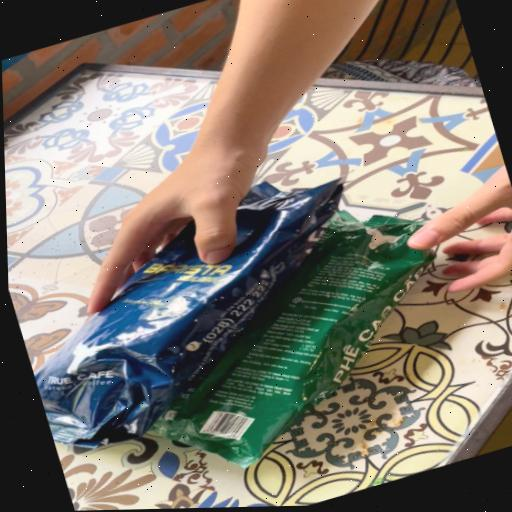cafe_hat: (33, 180, 342, 447)
cafe_xay: (152, 210, 434, 467)
